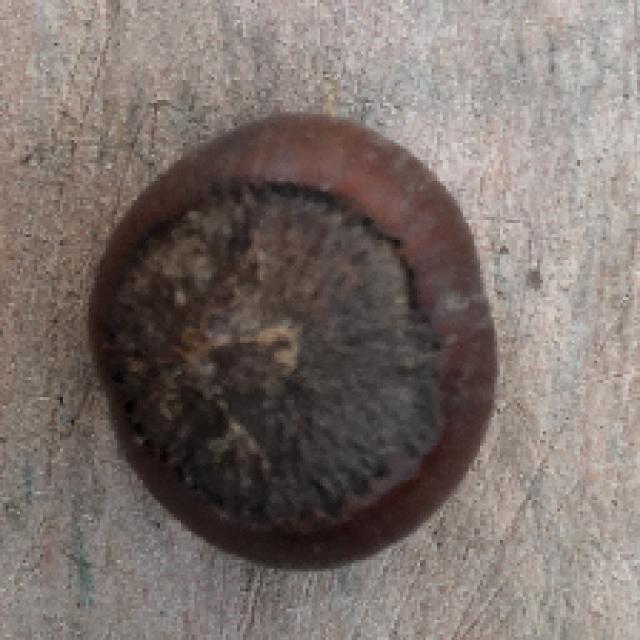damagedHazelnut: (77, 115, 507, 574)
